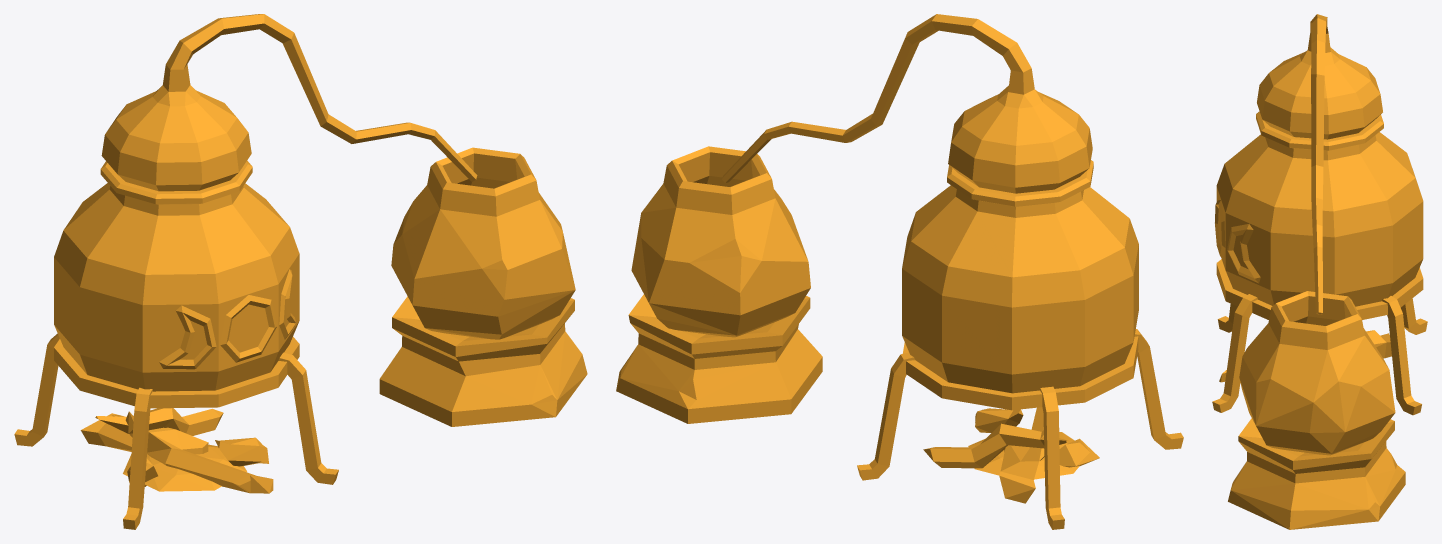
Rendered from SM_Alembic_Copper_Alchemy.fbx.
The picture shows the model from 3 angles, left to right: view 1: azimuth 30°, elevation 25°; view 2: azimuth 150°, elevation 25°; view 3: azimuth 270°, elevation 25°; orthographic projection. The views are drawn at different scales.
Parts seen in each view (by area): view 1: alembic-copper-alchemy; view 2: alembic-copper-alchemy; view 3: alembic-copper-alchemy.
Boxes of the visible parts, x1=… form: alembic-copper-alchemy: x1=14, y1=14, x2=587, y2=529; alembic-copper-alchemy: x1=616, y1=14, x2=1183, y2=529; alembic-copper-alchemy: x1=1212, y1=14, x2=1427, y2=529.
Size of the model in its own units: 0.739 by 0.6161 by 0.3213.
